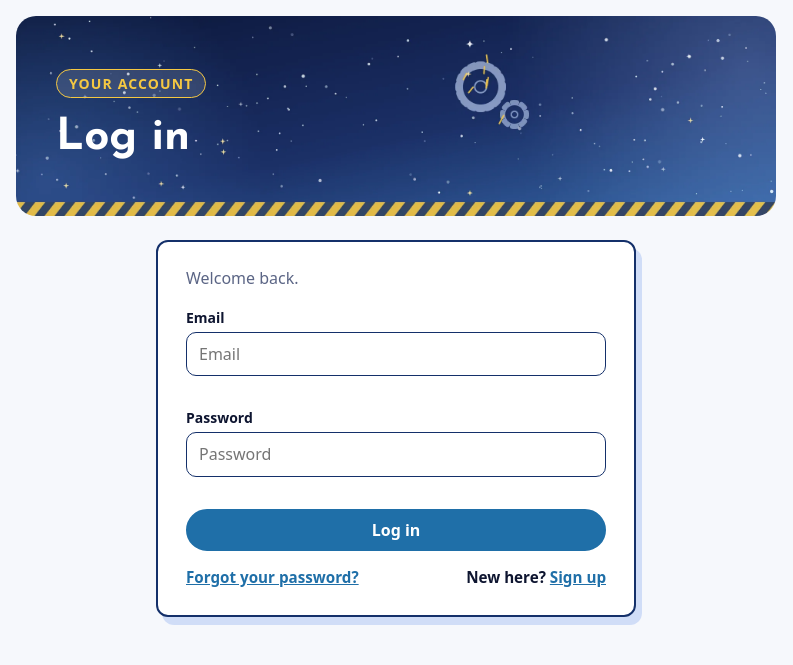
Scenario: log in › says when the email has not been confirmed yet
Type "gill@example.com" into the field labelled "Email" at coordinates (396, 354), box [186,332,606,376]
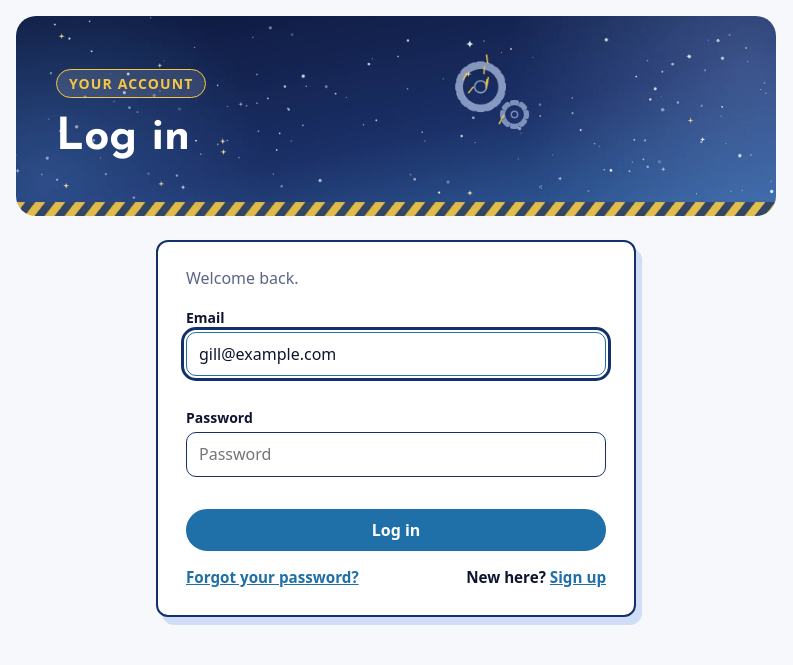
Type "secret123" into the password field labelled "Password" at coordinates (396, 454), box [186,432,606,477]
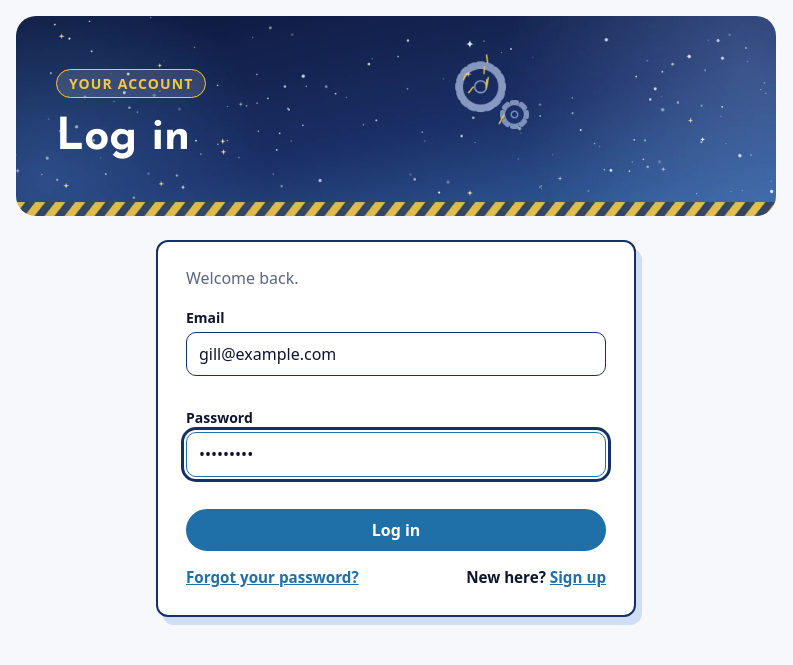
Click the button "Log in" at coordinates (396, 530), box [186,509,606,551]
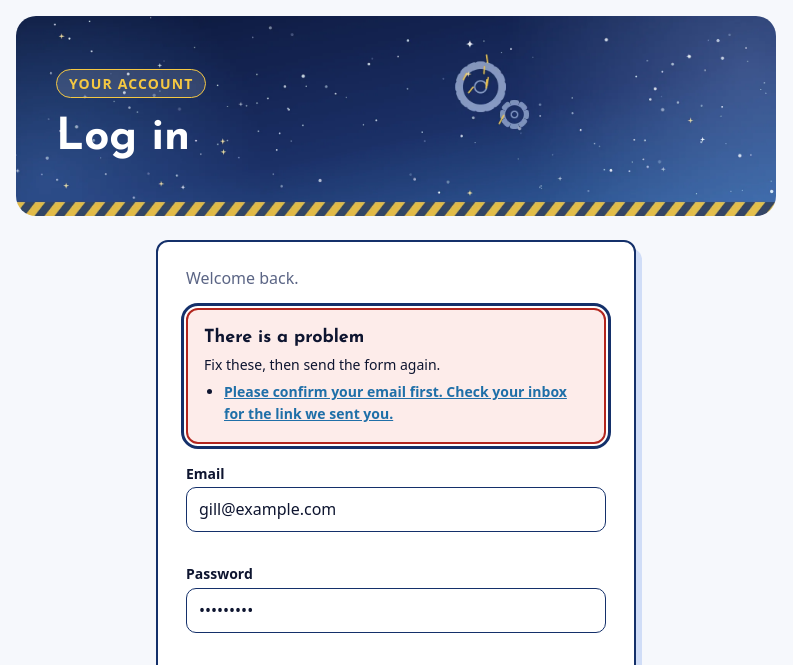
Expected: the message shows "Please confirm your email first. Check your inbox for the link we sent you.", [224,382,567,423]
